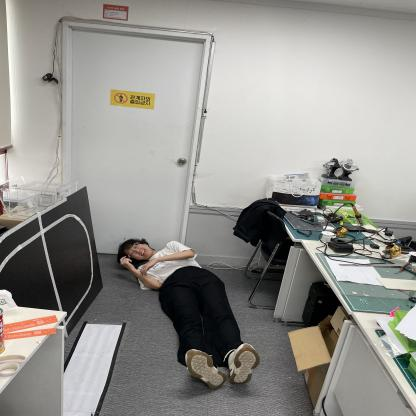fall: (118, 233, 261, 387)
